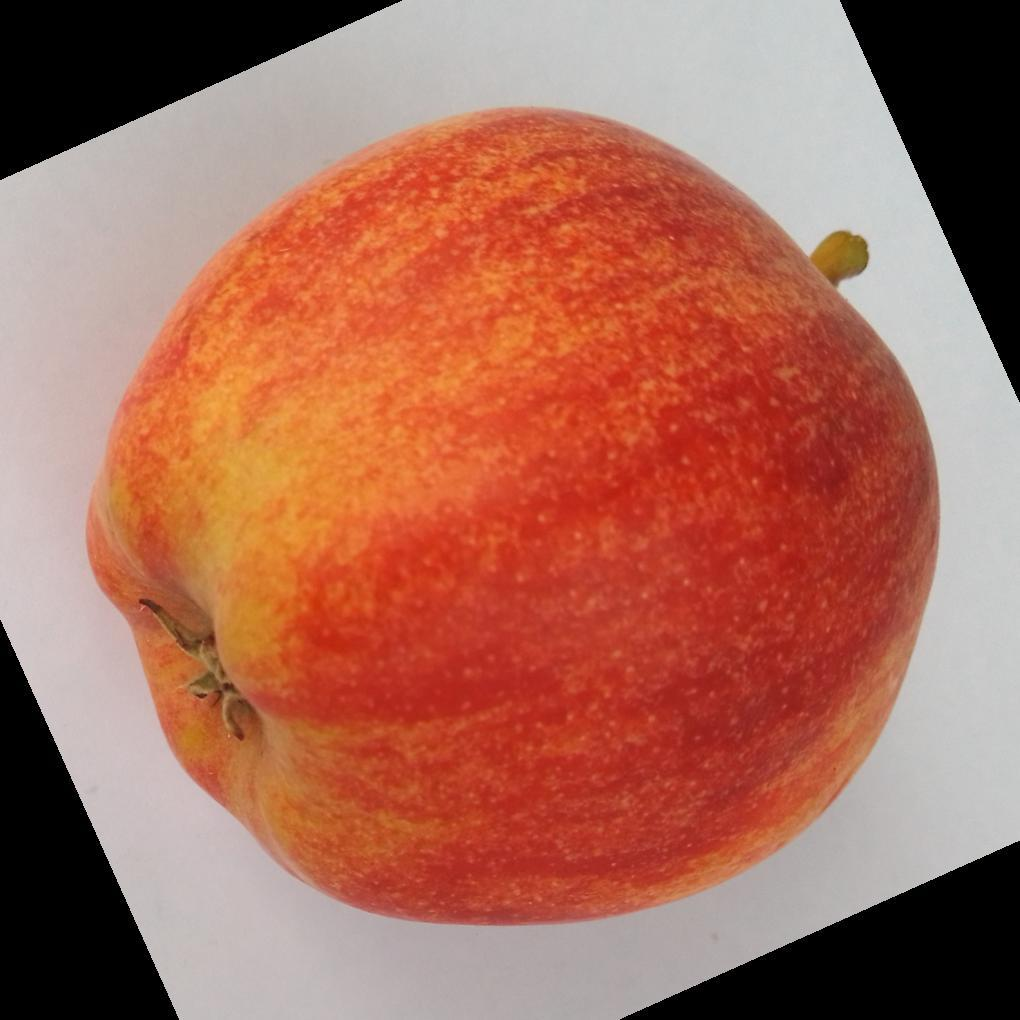FreshGuava: (82, 108, 941, 932)
